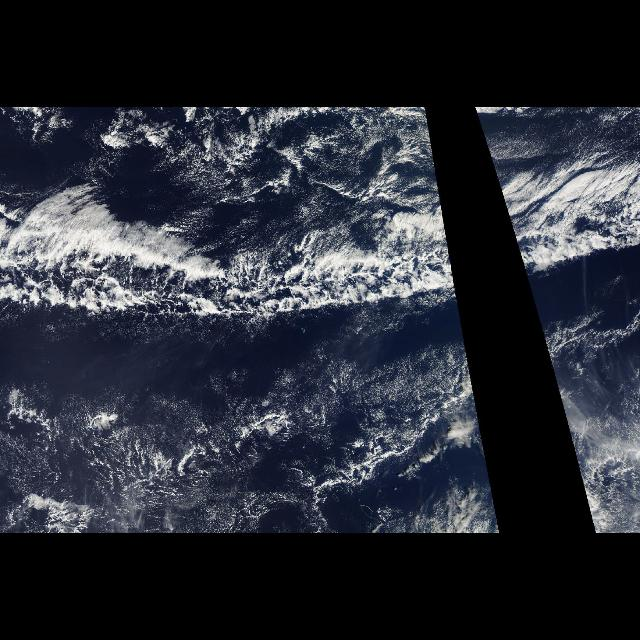Fish: (0, 150, 462, 330), (488, 150, 640, 330)
Sugar: (0, 339, 472, 531)
